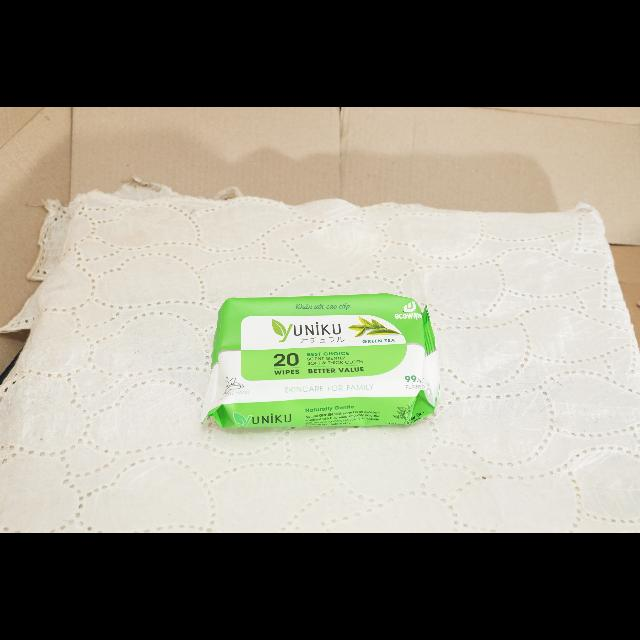khan_giay: (201, 294, 439, 428)
